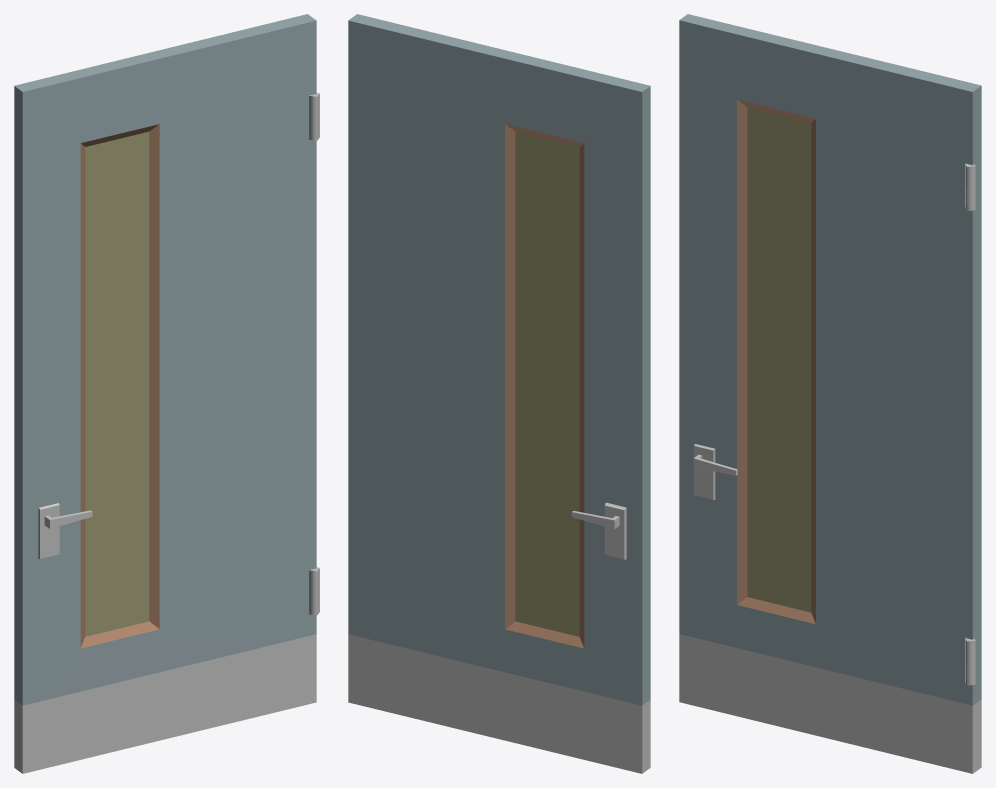
File: SM_Door_A2.fbx
3 renders of one model, left to right at view 1: azimuth 30°, elevation 25°; view 2: azimuth 150°, elevation 25°; view 3: azimuth 330°, elevation 25°, orthographic.
Parts seen in each view (by area): view 1: SM_Door_A2; view 2: SM_Door_A2; view 3: SM_Door_A2.
Boxes of the visible parts, x1,y1,x2,y2 form: SM_Door_A2: (14, 14, 319, 773); SM_Door_A2: (348, 14, 650, 773); SM_Door_A2: (679, 14, 981, 773).
Bounding box in the file's own units: 112 × 245 × 14.38.
Materials: 1 (1 with a texture image).
